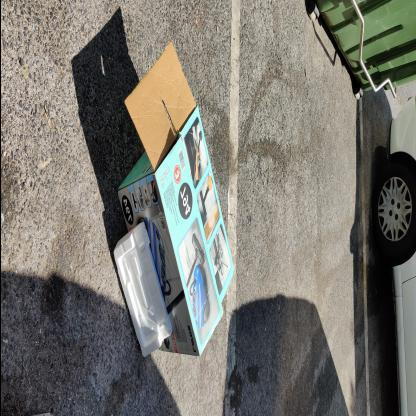diger: (114, 222, 174, 360)
karton: (117, 42, 237, 358)
